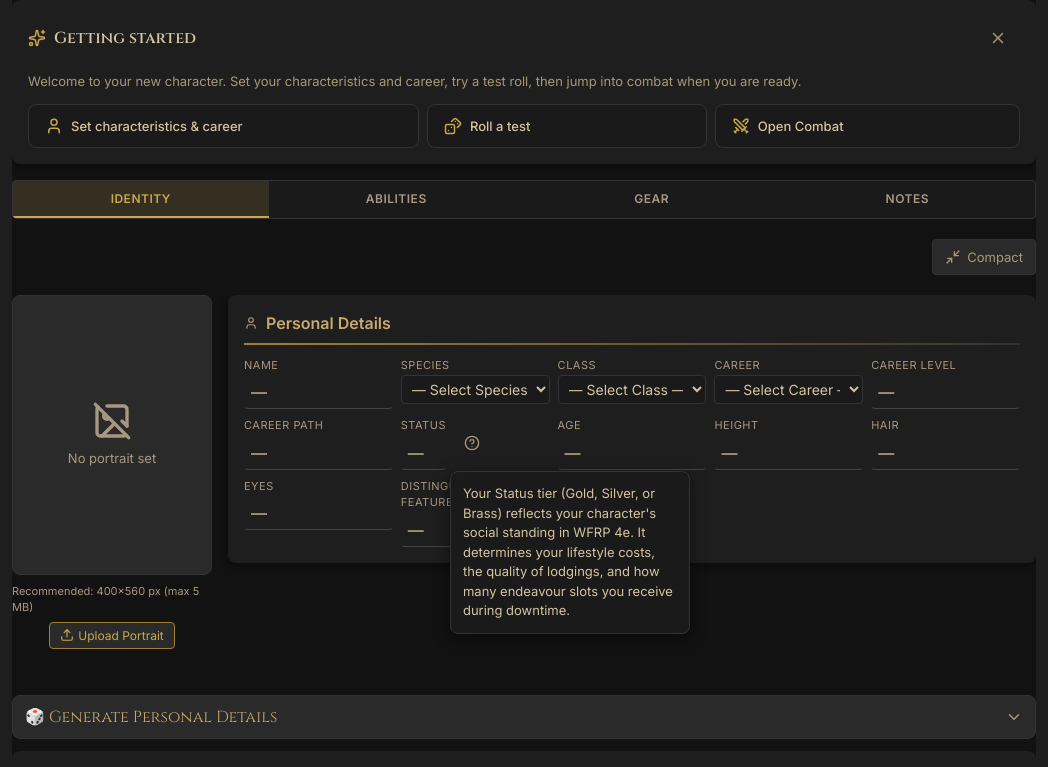
it: CalculatedTooltips integration › Skill Total Tooltip (Req 1.1, 1.3) › click skill total → tooltip shows breakdown → press Escape → closes
The width and height of the screenshot is (1048, 767).
# Switch to Abilities tab where skills are shown
Click the tab "Abilities" at (396, 199), box [268,180,524,218]
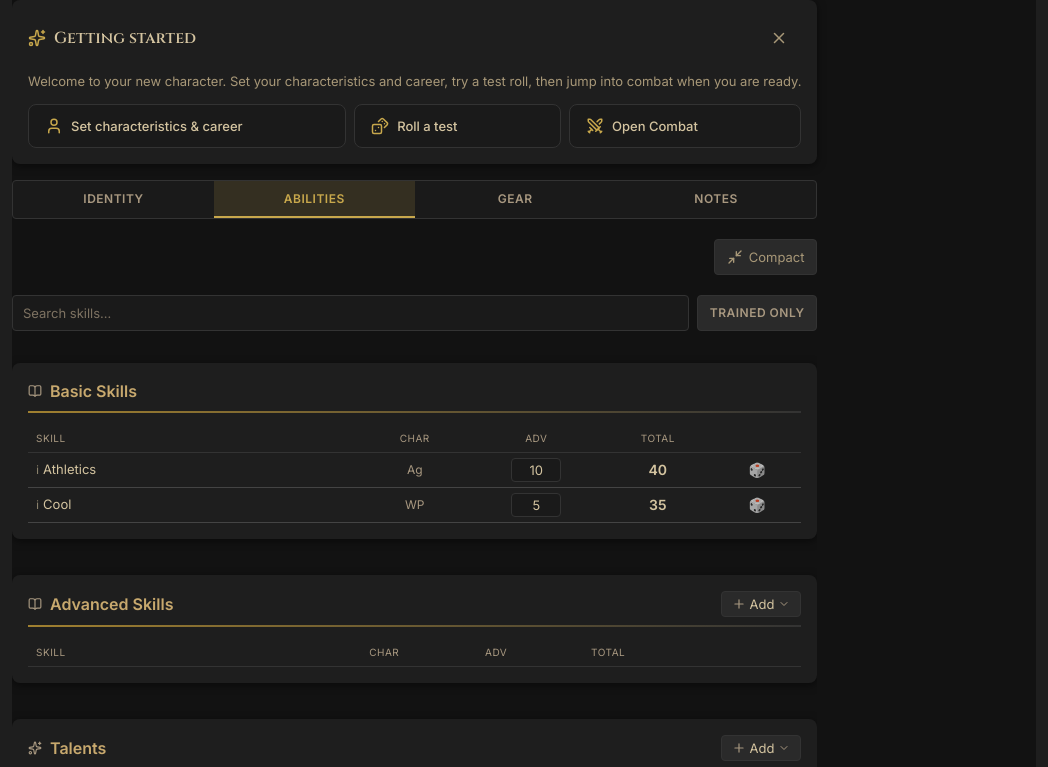
Expected: the button named "Skill total breakdown for Athletics" is shown
# Click opens tooltip
Click the button named "Skill total breakdown for Athletics" at (658, 470), box [648,461,667,478]
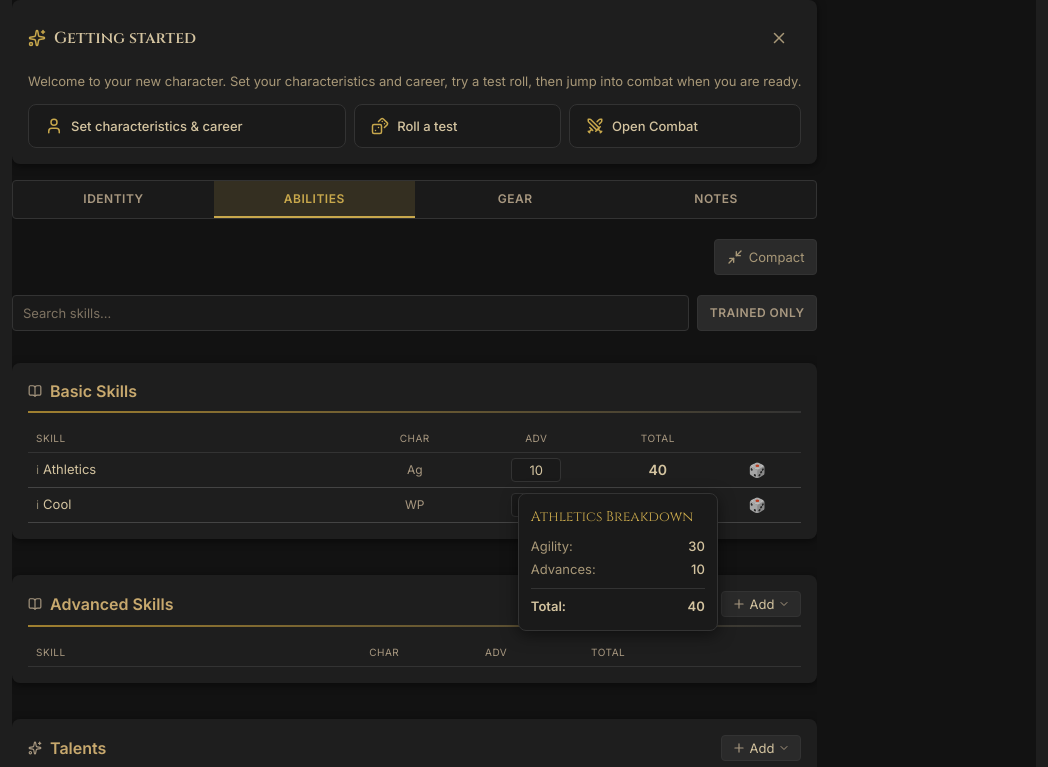
Expected: the tooltip with id "tooltip-breakdown-skill-0" is shown, [518,492,718,631]
Expected: the tooltip with id "tooltip-breakdown-skill-0" shows "Agility", [531,538,569,554]
Expected: the tooltip with id "tooltip-breakdown-skill-0" shows "30", [688,538,705,554]
# Press Escape closes tooltip
Press Escape
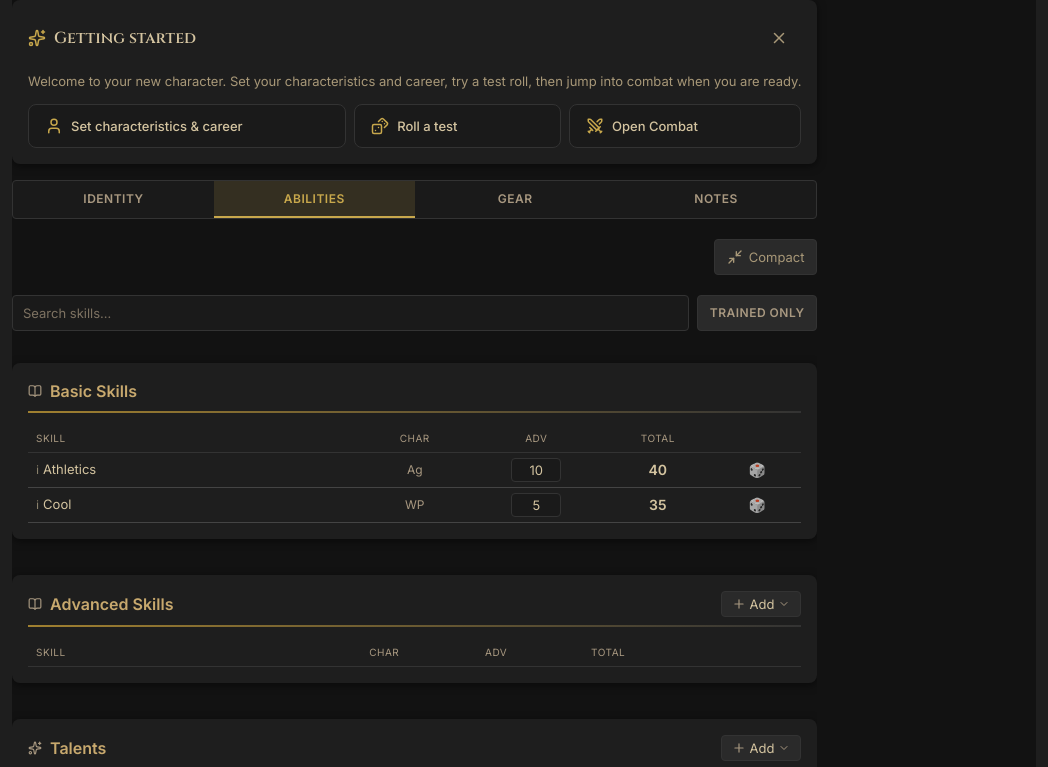
Expected: the tooltip with id "tooltip-breakdown-skill-0" is gone
